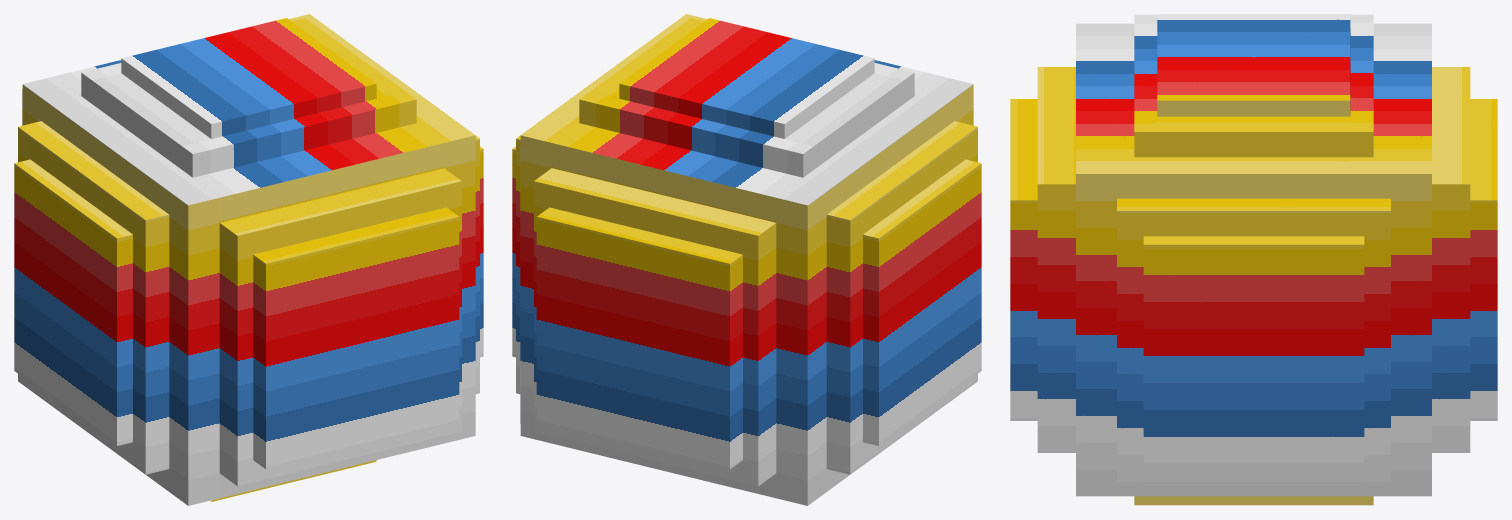
The model's file is BGN_BEACH BALL.fbx.
The picture shows the model from 3 angles, left to right: view 1: azimuth 30°, elevation 25°; view 2: azimuth 150°, elevation 25°; view 3: azimuth 270°, elevation 25°; orthographic projection. The views are drawn at different scales.
Parts seen in each view (by area): view 1: BGN_BEACH BALL; view 2: BGN_BEACH BALL; view 3: BGN_BEACH BALL.
Part boxes in pixels (x1,y1,x2,y2): BGN_BEACH BALL: (14,14,483,505); BGN_BEACH BALL: (512,14,981,505); BGN_BEACH BALL: (1010,14,1497,505).
Size of the model in its own units: 60.9 by 59.97 by 65.32.
